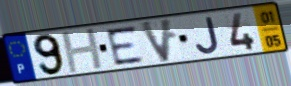4: (228, 11, 257, 52)
9: (31, 33, 68, 77)
E: (103, 24, 147, 68)
H: (59, 26, 106, 75)
J: (193, 15, 222, 56)
V: (137, 16, 175, 65)
